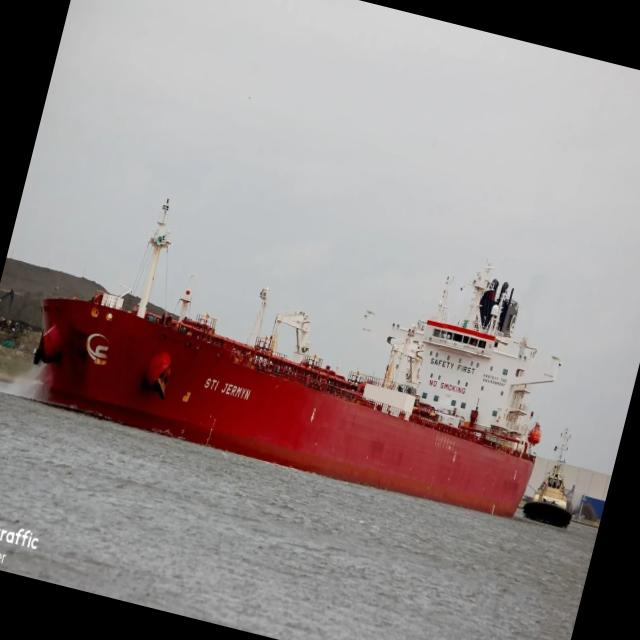Tanker: (33, 201, 554, 515)
Tug: (522, 428, 571, 527)
